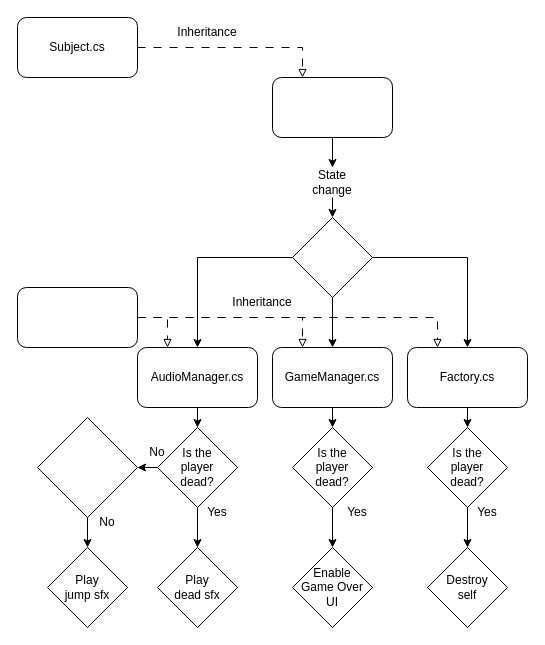
The diagram is 545 pixels wide and 645 high, and some of its shapes have lost their labels. The shapes that lost their labels are listed below. From the top down, each one's centre as x and y in pixels, then its label:
the point at 332,107: PlayerMovement.cs
the point at 332,257: Notify each observer
the point at 77,317: Observer.cs
the point at 87,467: Is the player grounded?
